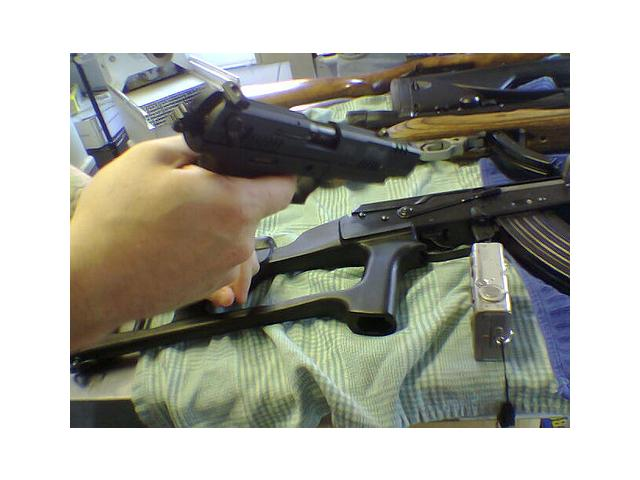pistol: (172, 78, 423, 289)
